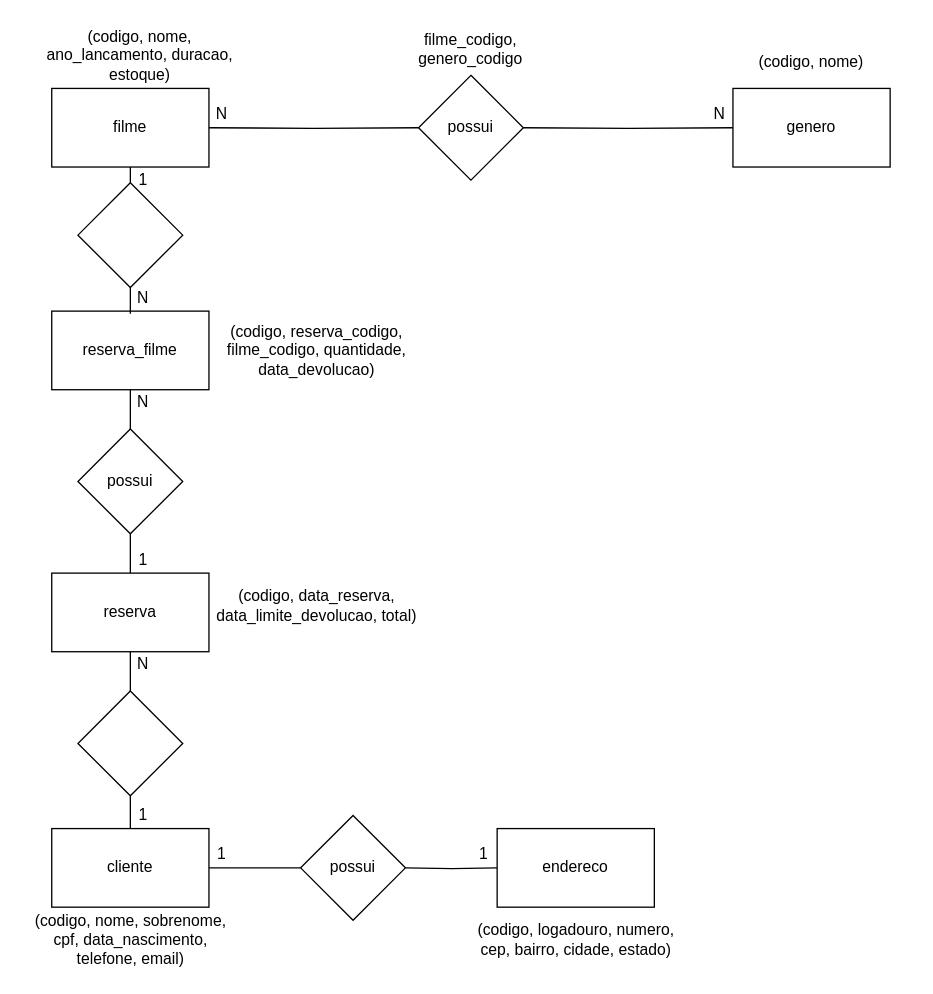
This 933x994 diagram has some shape labels left out. Here are the shapes that lost their labels. From the top down, the box of each, then its label:
(77, 181, 183, 288): tem
(77, 690, 183, 796): faz
